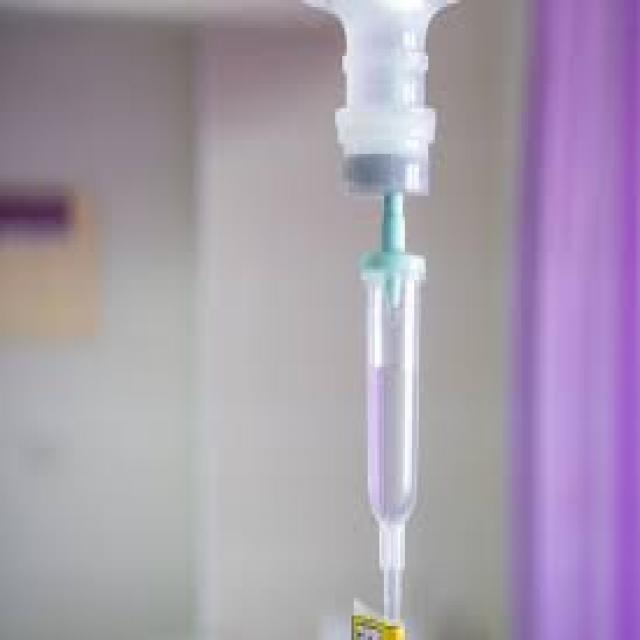iv_fluids: (344, 109, 469, 581)
